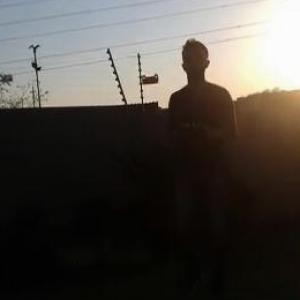follow: (163, 32, 242, 299)
